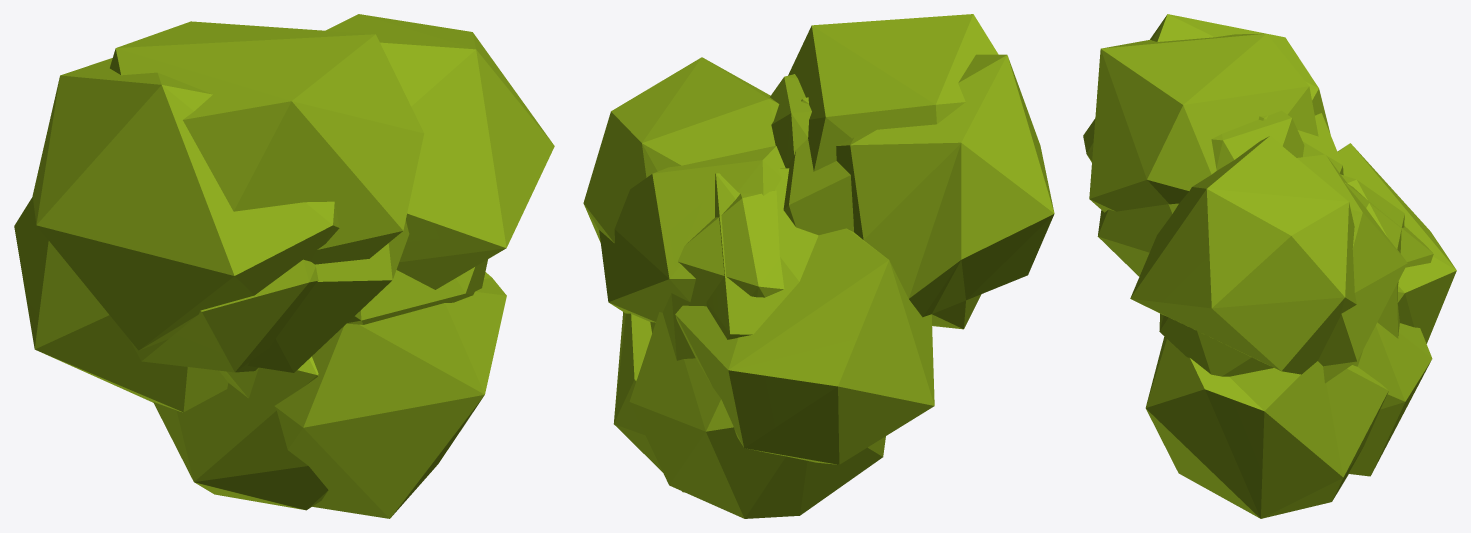
Rendered from Vegetation_Modular_Tree_Foliage_Clump_Large_11.fbx.
The picture shows the model from 3 angles, left to right: view 1: azimuth 30°, elevation 25°; view 2: azimuth 150°, elevation 25°; view 3: azimuth 270°, elevation 25°; orthographic projection. The views are drawn at different scales.
Parts seen in each view (by area): view 1: Vegetation_Modular_Tree_Foliage_Clump_Large_11; view 2: Vegetation_Modular_Tree_Foliage_Clump_Large_11; view 3: Vegetation_Modular_Tree_Foliage_Clump_Large_11.
Boxes of the visible parts, x1,y1,x2,y2 form: Vegetation_Modular_Tree_Foliage_Clump_Large_11: [14, 14, 554, 518]; Vegetation_Modular_Tree_Foliage_Clump_Large_11: [583, 14, 1054, 518]; Vegetation_Modular_Tree_Foliage_Clump_Large_11: [1083, 14, 1456, 518].
Size of the model in its own units: 3561 by 3435 by 2991.
